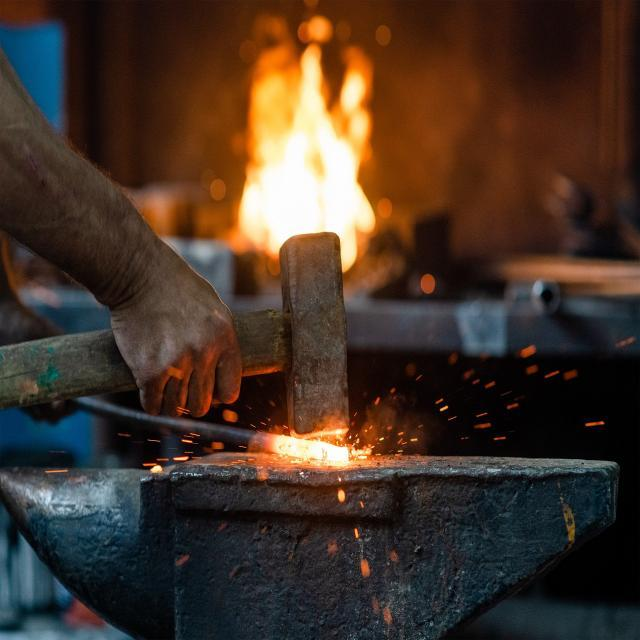hammer: (0, 206, 366, 467)
